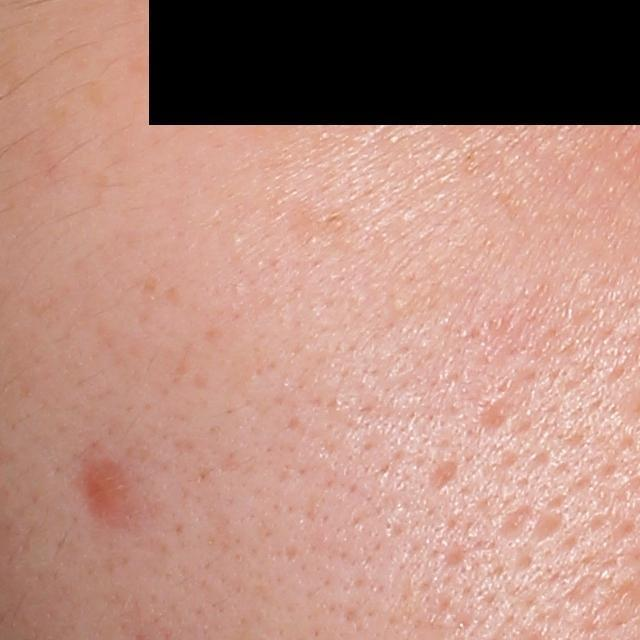atrophic_scar: (470, 389, 511, 443), (494, 497, 534, 537), (532, 507, 569, 542), (425, 460, 457, 489)
papule: (71, 457, 128, 525)
